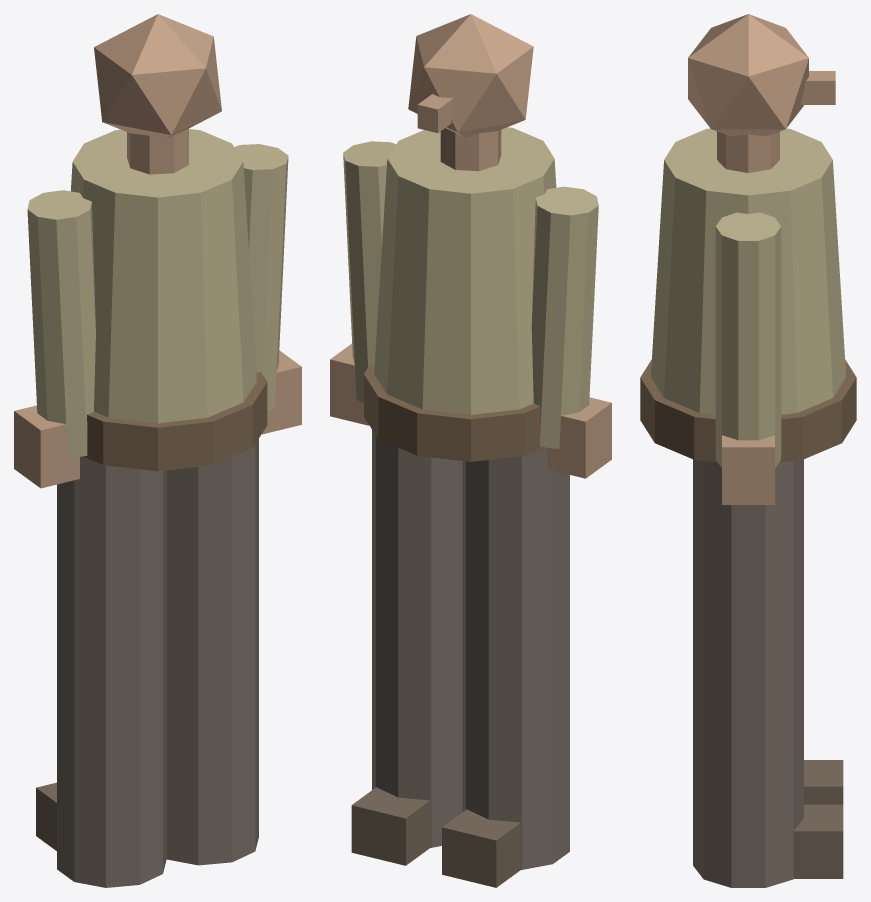
File: worker.glb
3 renders of one model, left to right at view 1: azimuth 30°, elevation 25°; view 2: azimuth 150°, elevation 25°; view 3: azimuth 270°, elevation 25°, orthographic. The views are drawn at different scales.
Visible parts, largest first — view 1: worker; view 2: worker; view 3: worker.
Part boxes in pixels (<box>): worker: <box>14,14,301,887</box>; worker: <box>330,14,611,887</box>; worker: <box>640,14,856,887</box>.
Size of the model in its own units: 0.5763 by 1.77 by 0.4182.
